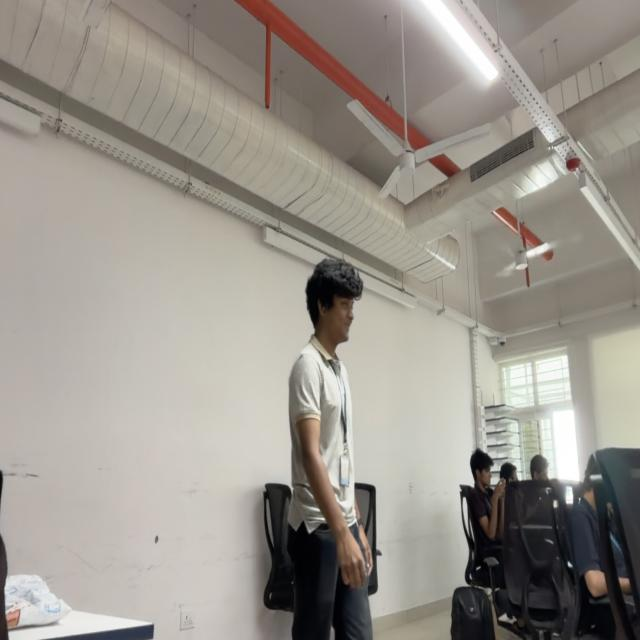kshitij: (305, 255, 364, 349)
